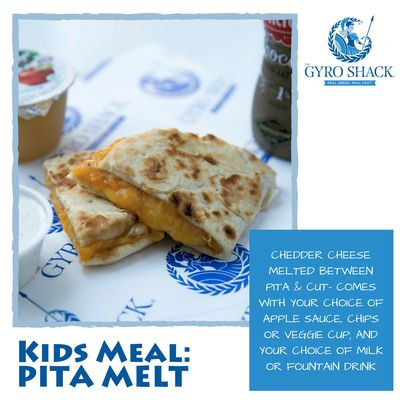pizza: (17, 52, 77, 163)
soup: (42, 127, 279, 266)
